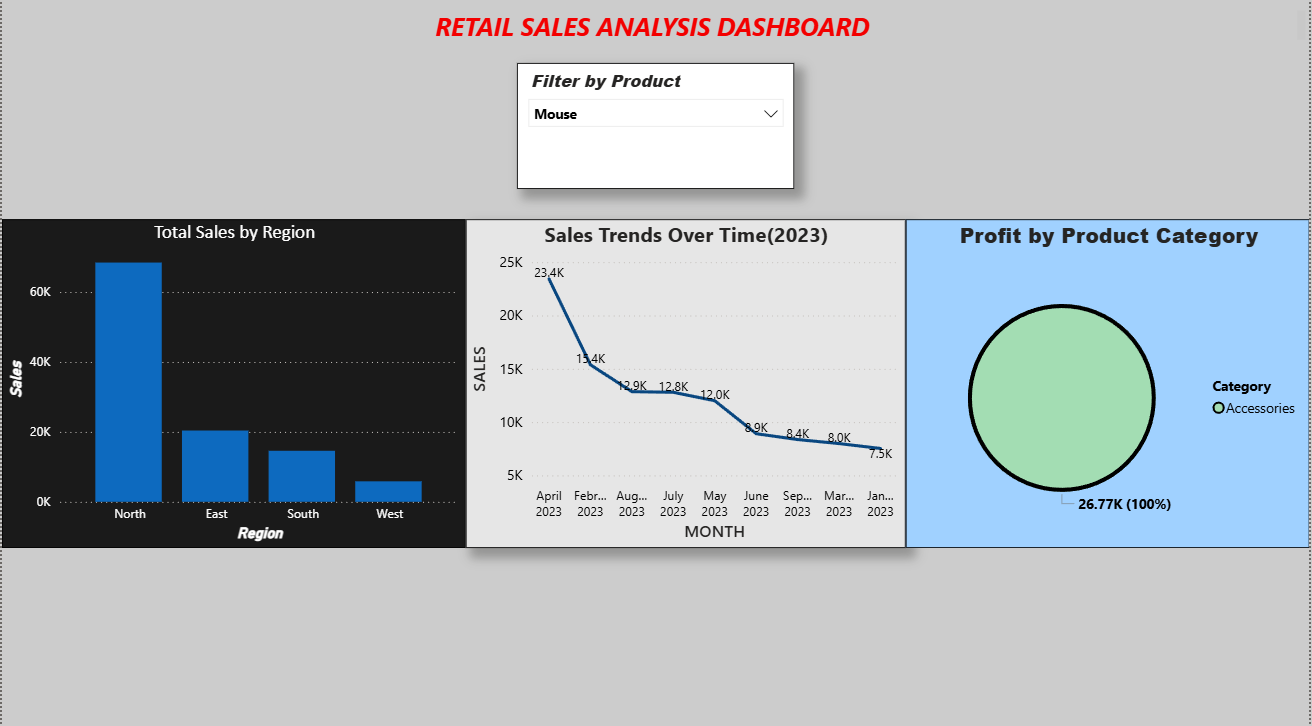

Layout of this report page (visuals, bound fields, positions):
{"tool":"powerbi","page":{"name":"Page 1","canvas":[1280,720],"ordinal":0},"visuals":[{"type":"clusteredColumnChart","fields":{"Y":["retail_sales_100 (1).Total Sales"],"Category":["retail_sales_100 (1).Region"]},"box":[0,221.3,453.7,321.6],"z":0},{"type":"lineChart","title":"Sales Trends Over Time(2023)","fields":{"Y":["retail_sales_100 (1).Total Sales"],"Category":["DateTable.Month"]},"box":[453.7,221.3,430.4,321.6],"z":1000},{"type":"pieChart","title":"Profit by Product Category","fields":{"Category":["retail_sales_100 (1).Category"],"Y":["retail_sales_100 (1).Total Profit"]},"box":[884.1,221.3,396.2,321.6],"z":1001},{"type":"slicer","fields":{"Values":["retail_sales_100 (1).Product"]},"box":[503.8,68.5,271.5,123.5],"z":1002},{"type":"textbox","box":[0,12.2,1280.3,40.4],"z":1003}]}

Visuals, with their boxes in screenshot pixels (x1, y1, x2, y2), scaled from the page's 1280x720 canvas onto the 1312x726 screenshot:
clusteredColumnChart - retail_sales_100 (1).Total Sales x retail_sales_100 (1).Region: [0, 223, 465, 547]
"Sales Trends Over Time(2023)" lineChart: [465, 223, 906, 547]
"Profit by Product Category" pieChart: [906, 223, 1311, 547]
slicer - retail_sales_100 (1).Product: [516, 69, 795, 194]
textbox: [0, 12, 1311, 53]
